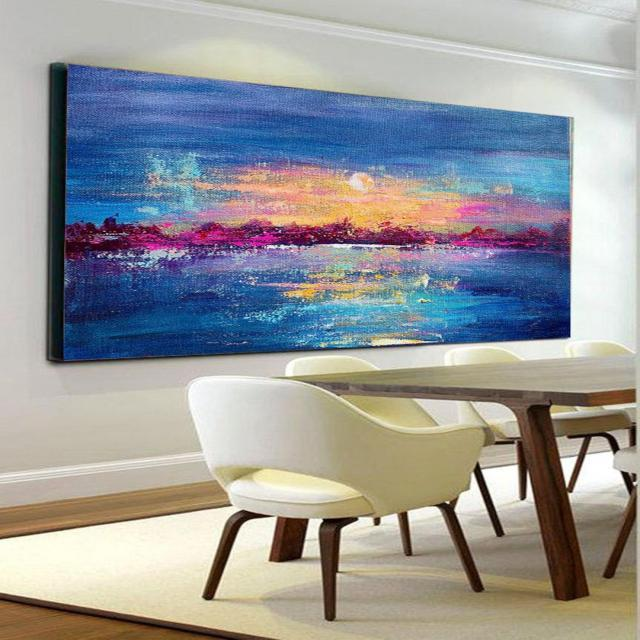painting: (67, 64, 571, 361)
